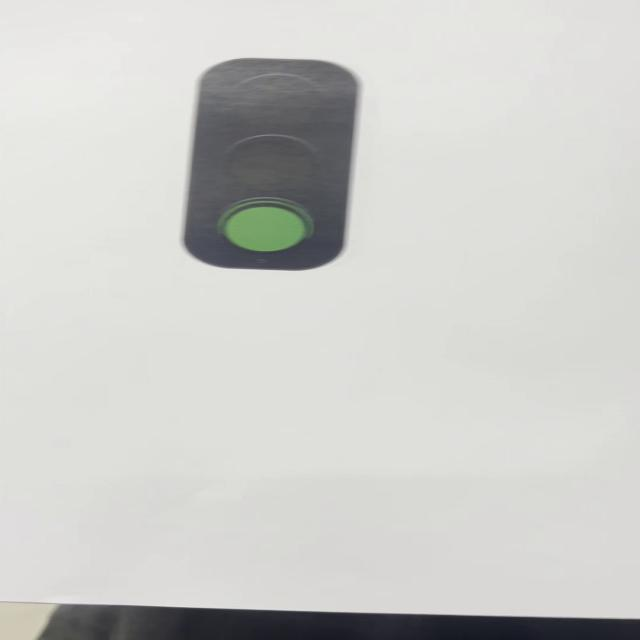green: (179, 58, 365, 274)
